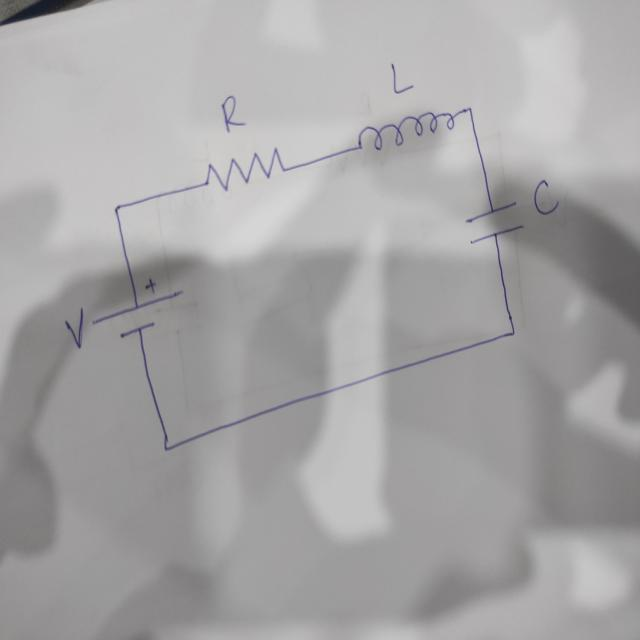capacitor: (462, 198, 524, 246)
inductor: (356, 107, 460, 152)
junction: (158, 435, 174, 457), (504, 322, 518, 342), (465, 103, 475, 117), (111, 202, 122, 214)
resistor: (197, 144, 291, 192)
source: (90, 275, 184, 341)
text: (389, 60, 420, 96), (219, 92, 246, 132), (64, 304, 86, 350), (533, 178, 559, 216)
